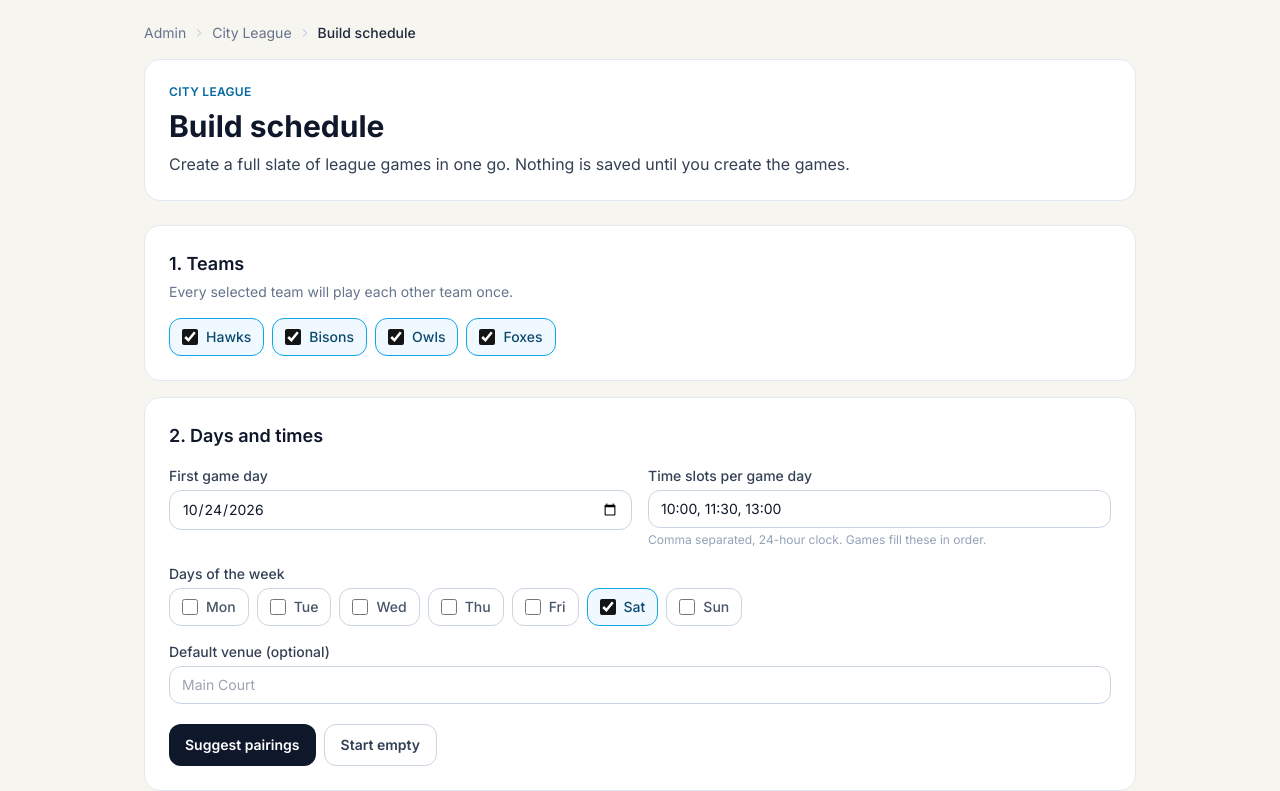
Test: AdminLeagueSchedulePage › generates a full round-robin draft from the league teams
The image size is (1280, 791).
Click the button "Suggest pairings". click: (242, 745)
box: [169, 724, 316, 766]
(page scrolled)
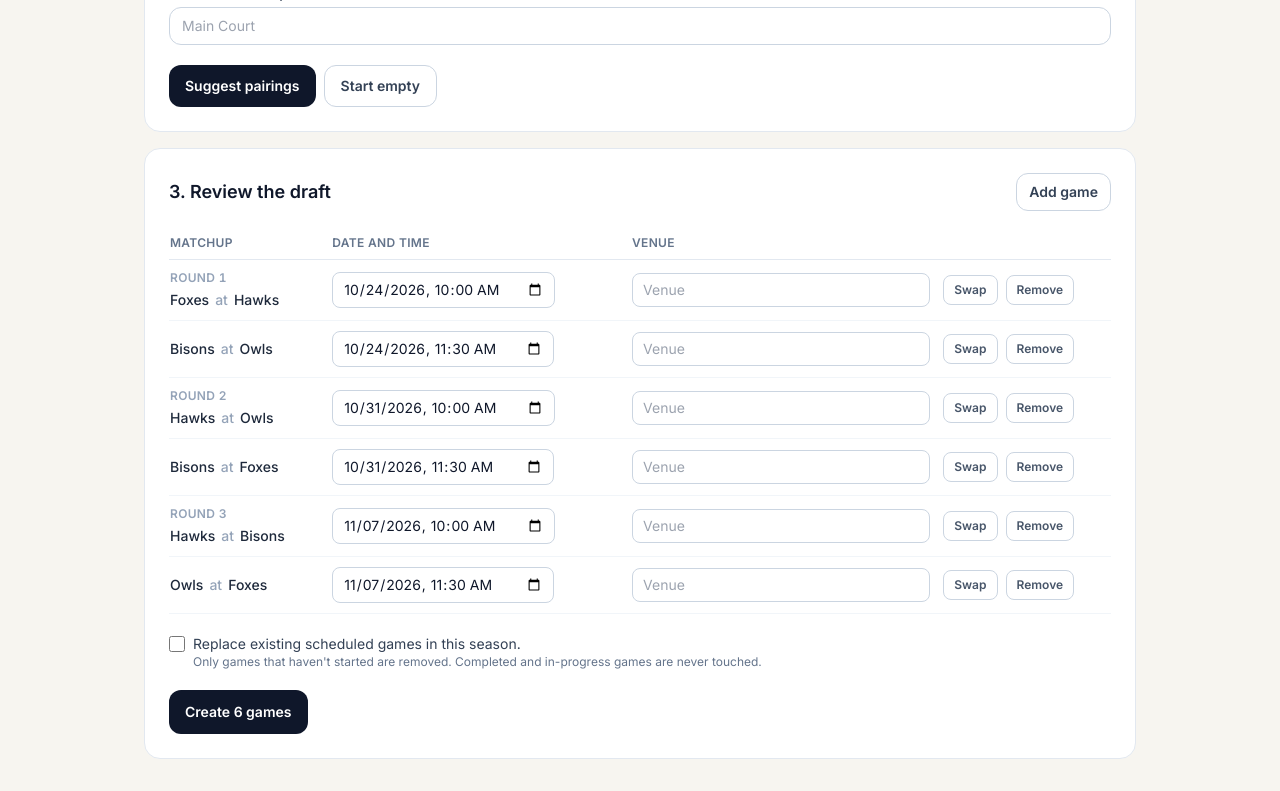
Check: the number of buttons named "remove game" is 12
Check: the button "Create 6 games" is shown, box [169, 690, 308, 734]
